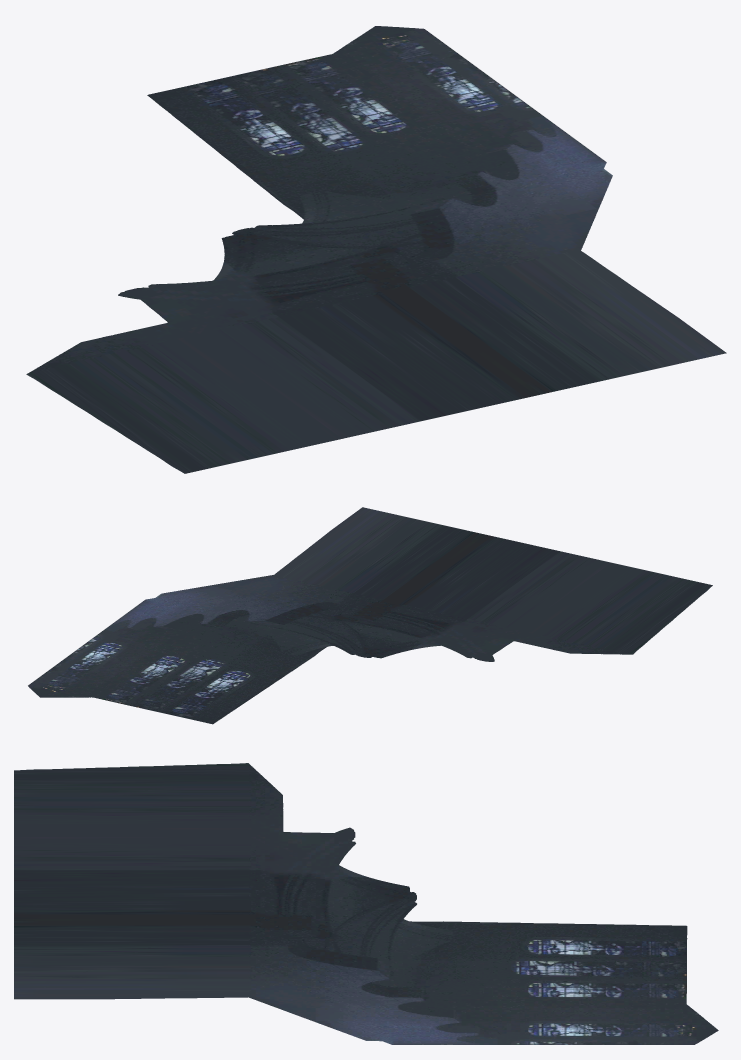
The model's file is build_right.fbx.
The picture shows the model from 3 angles, top to bottom: view 1: azimuth 30°, elevation 25°; view 2: azimuth 150°, elevation 25°; view 3: azimuth 270°, elevation 25°; orthographic projection. The views are drawn at different scales.
Parts seen in each view (by area): view 1: mesh_222_286.nr; view 2: mesh_222_286.nr; view 3: mesh_222_286.nr.
Boxes of the visible parts, x1,y1,x2,y2 form: mesh_222_286.nr: (26,26,726,473); mesh_222_286.nr: (28,507,712,724); mesh_222_286.nr: (14,763,718,1044).
Size of the model in its own units: 2239 by 2024 by 41.05.
